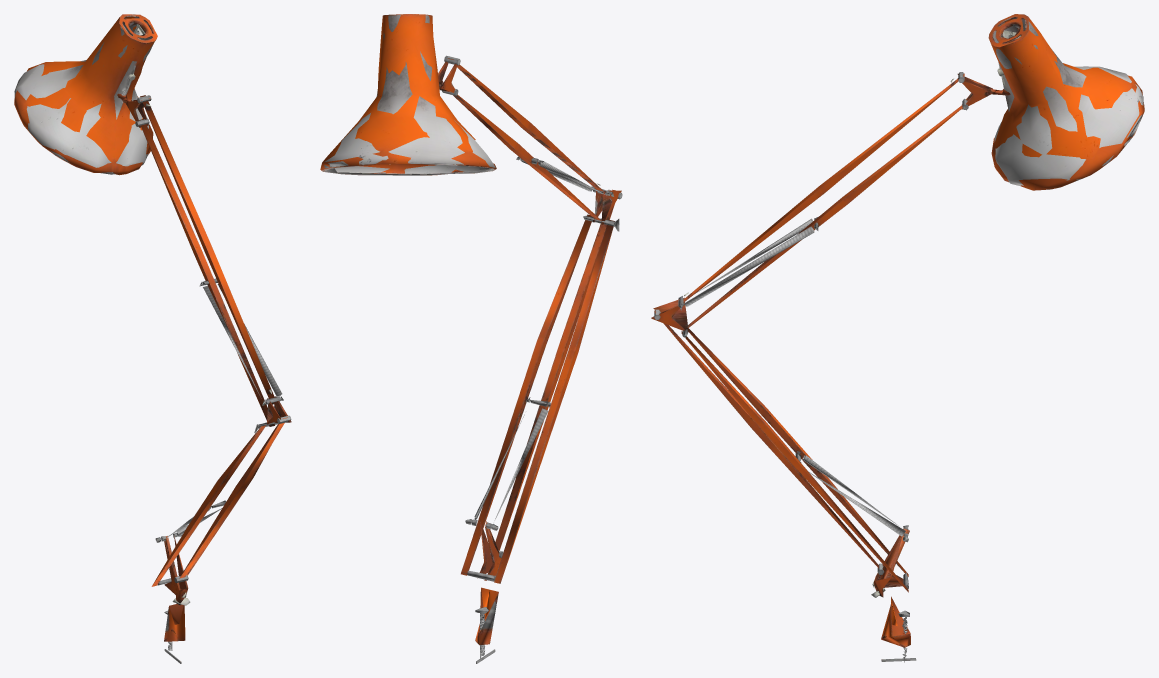
Rendered from desk_lamp_arm_01.glb.
The picture shows the model from 3 angles, left to right: view 1: azimuth 30°, elevation 25°; view 2: azimuth 150°, elevation 25°; view 3: azimuth 270°, elevation 25°; orthographic projection. The views are drawn at different scales.
Visible parts, largest first — view 1: desk_lamp_arm_01; view 2: desk_lamp_arm_01; view 3: desk_lamp_arm_01.
Boxes of the visible parts, x1,y1,x2,y2 form: desk_lamp_arm_01: (14,14,291,663); desk_lamp_arm_01: (320,14,622,663); desk_lamp_arm_01: (651,14,1144,662).
Bounding box in the file's own units: 0.2017 × 0.8926 × 0.6132.
2 materials, 2 textured.
